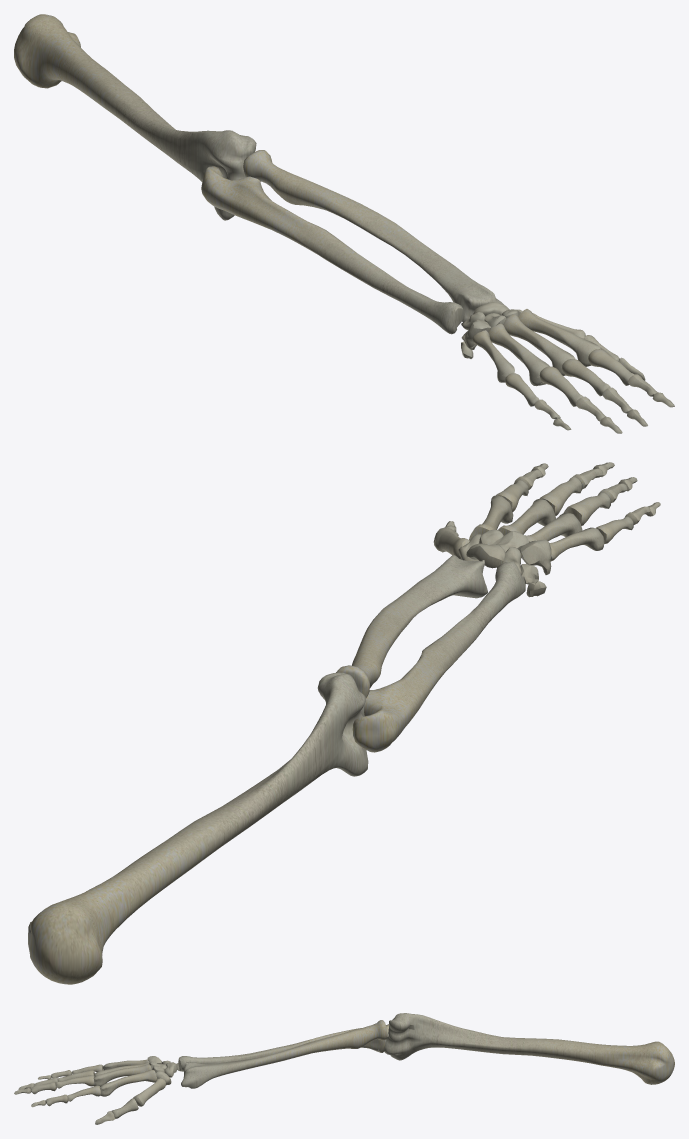
Rendered from rightArm.glb.
3 views of the same model, one above another, from view 1: azimuth 30°, elevation 25°; view 2: azimuth 150°, elevation 25°; view 3: azimuth 270°, elevation 25° (orthographic). The views are drawn at different scales.
Parts seen in each view (by area): view 1: humorus, ulna, radius, mcarple2, mcarple3, mcarpal4, mcarpal5, phalx3p, phalx4p, phalanx2; view 2: humorus, ulna, radius, mcarple3, mcarpal5, mcarpal4, mcarple2, hamate; view 3: humorus, radius, ulna, mcarple2, mcarple3, metacpl1, phalx3p, phalng1p, phalanx2, mcarpal5.
Boxes of the visible parts, x1,y1,x2,y2 form: humorus: [14, 14, 256, 220]; ulna: [201, 166, 464, 334]; radius: [243, 150, 503, 322]; mcarple2: [518, 309, 600, 366]; mcarple3: [503, 314, 575, 375]; mcarpal4: [488, 323, 549, 386]; mcarpal5: [472, 330, 514, 382]; phalx3p: [562, 359, 610, 396]; phalx4p: [539, 366, 582, 406]; phalanx2: [588, 349, 634, 385]; humorus: [28, 672, 368, 984]; ulna: [352, 561, 525, 752]; radius: [336, 555, 487, 697]; mcarple3: [498, 499, 555, 535]; mcarpal5: [549, 527, 604, 561]; mcarpal4: [521, 512, 582, 558]; mcarple2: [469, 495, 513, 540]; hamate: [520, 540, 551, 574]; humorus: [384, 1013, 674, 1084]; radius: [181, 1020, 387, 1088]; ulna: [176, 1024, 389, 1071]; mcarple2: [100, 1069, 157, 1096]; mcarple3: [94, 1064, 151, 1086]; metacpl1: [133, 1078, 165, 1106]; phalx3p: [55, 1075, 94, 1088]; phalng1p: [111, 1098, 138, 1118]; phalanx2: [67, 1085, 101, 1101]; mcarpal5: [103, 1059, 149, 1070].
Bounding box in the file's own units: 2.97 × 1.49 × 13.95.
Materials: 1 (1 with a texture image).
